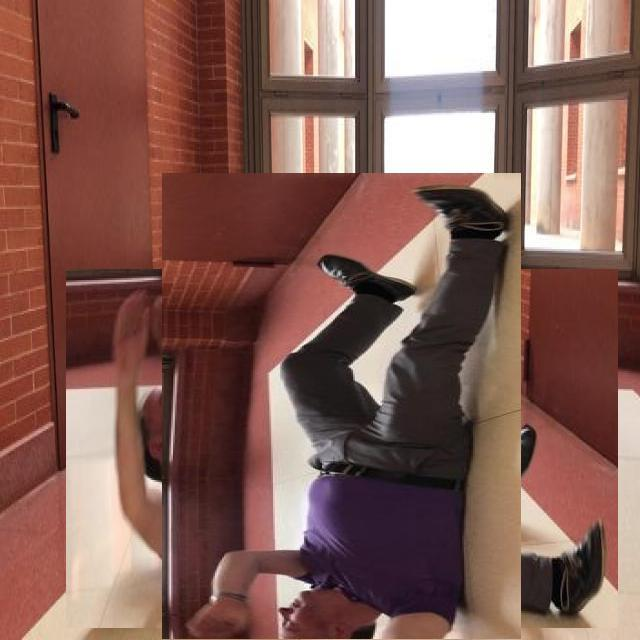Fall: (164, 221, 527, 640)
